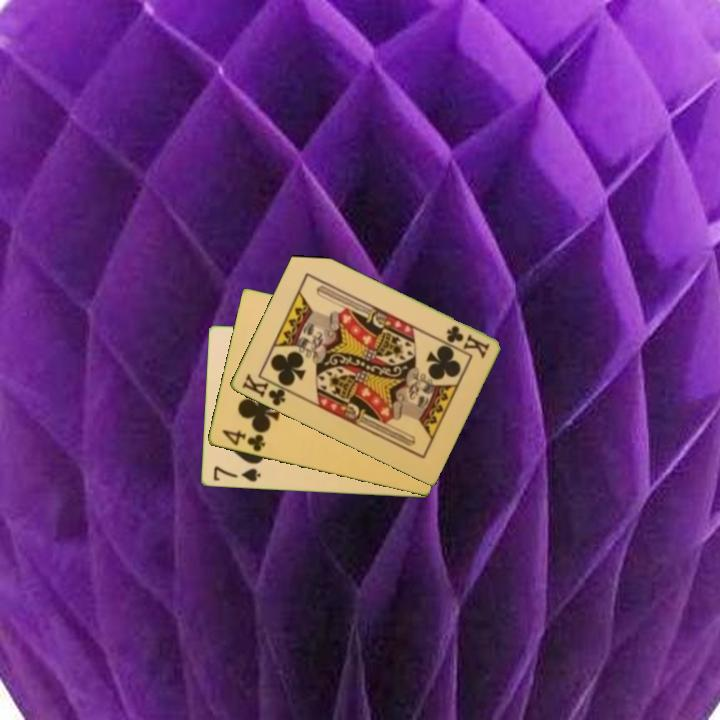4c: (218, 426, 268, 455)
7s: (210, 463, 263, 485)
Kc: (238, 370, 294, 409), (442, 322, 492, 361)
